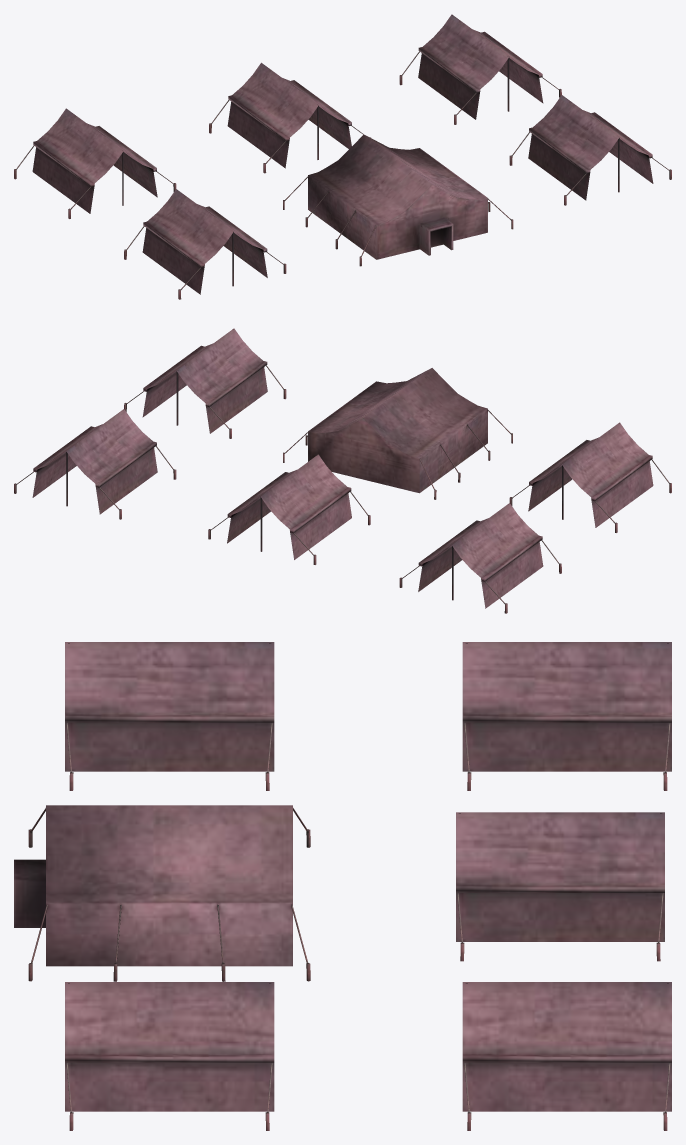
Rendered from BarracksIII.glb.
3 views of the same model, one above another, from view 1: azimuth 30°, elevation 25°; view 2: azimuth 150°, elevation 25°; view 3: azimuth 270°, elevation 25° (orthographic). The views are drawn at different scales.
Parts seen in each view (by area): view 1: 2, 2.002, 2.001, 2.003; view 2: 2, 2.001, 2.002, 2.003; view 3: 2.001, 2.002, 2, 2.003.
Part boxes in pixels (box(x1,y1,x2,y2)): 2: box(283, 134, 513, 266); 2.002: box(14, 14, 561, 218); 2.001: box(124, 95, 671, 299); 2.003: box(209, 62, 370, 173); 2: box(283, 368, 512, 499); 2.001: box(124, 328, 671, 532); 2.002: box(14, 409, 561, 613); 2.003: box(208, 454, 370, 564); 2.001: box(65, 642, 274, 1130); 2.002: box(462, 642, 671, 1130); 2: box(14, 805, 310, 981); 2.003: box(456, 812, 664, 961).
Size of the model in its own units: 29.73 by 3.57 by 19.04.
1 material, 1 textured.
